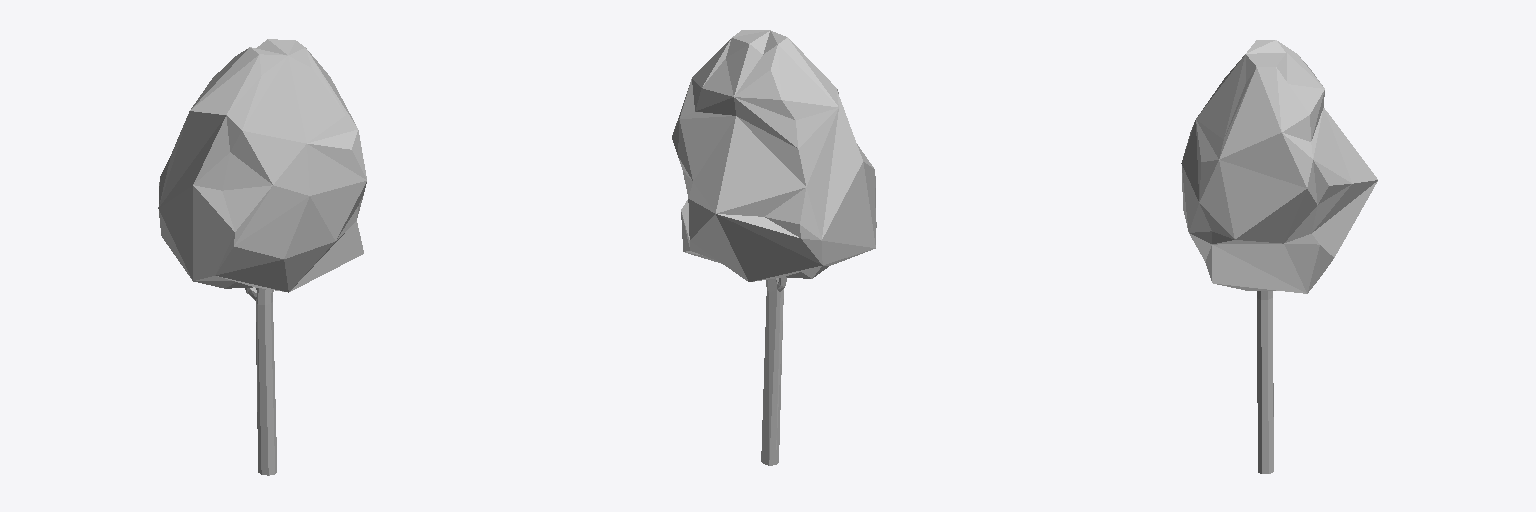
The model's file is tree_birch_01.obj.
3 renders of one model, left to right at view 1: azimuth 30°, elevation 25°; view 2: azimuth 150°, elevation 25°; view 3: azimuth 270°, elevation 25°, orthographic.
Visible parts, largest first — view 1: tree_birch_01 geo_leavesClump00, geo_trunk08 tree_birch_01; view 2: tree_birch_01 geo_leavesClump00, geo_trunk08 tree_birch_01; view 3: tree_birch_01 geo_leavesClump00, geo_trunk08 tree_birch_01.
Boxes of the visible parts, x1=… form: tree_birch_01 geo_leavesClump00: x1=158, y1=39, x2=366, y2=292; geo_trunk08 tree_birch_01: x1=245, y1=287, x2=276, y2=475; tree_birch_01 geo_leavesClump00: x1=672, y1=30, x2=876, y2=281; geo_trunk08 tree_birch_01: x1=761, y1=277, x2=786, y2=465; tree_birch_01 geo_leavesClump00: x1=1181, y1=40, x2=1377, y2=293; geo_trunk08 tree_birch_01: x1=1257, y1=291, x2=1273, y2=473.
Size of the model in its own units: 1.88 by 4.46 by 1.88.